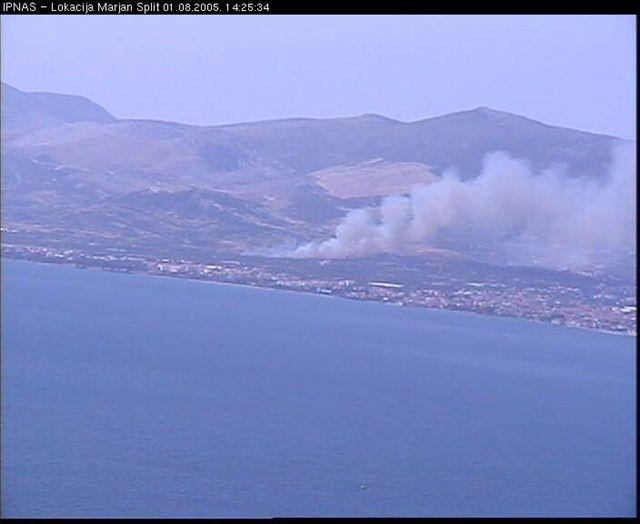Smoke: (236, 134, 637, 258)
